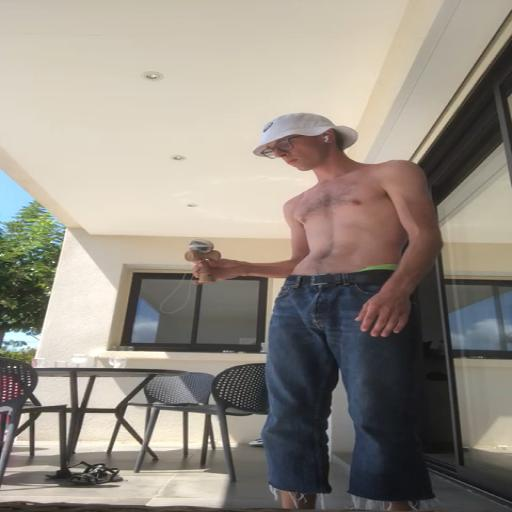kendama_ball: (188, 238, 214, 253)
